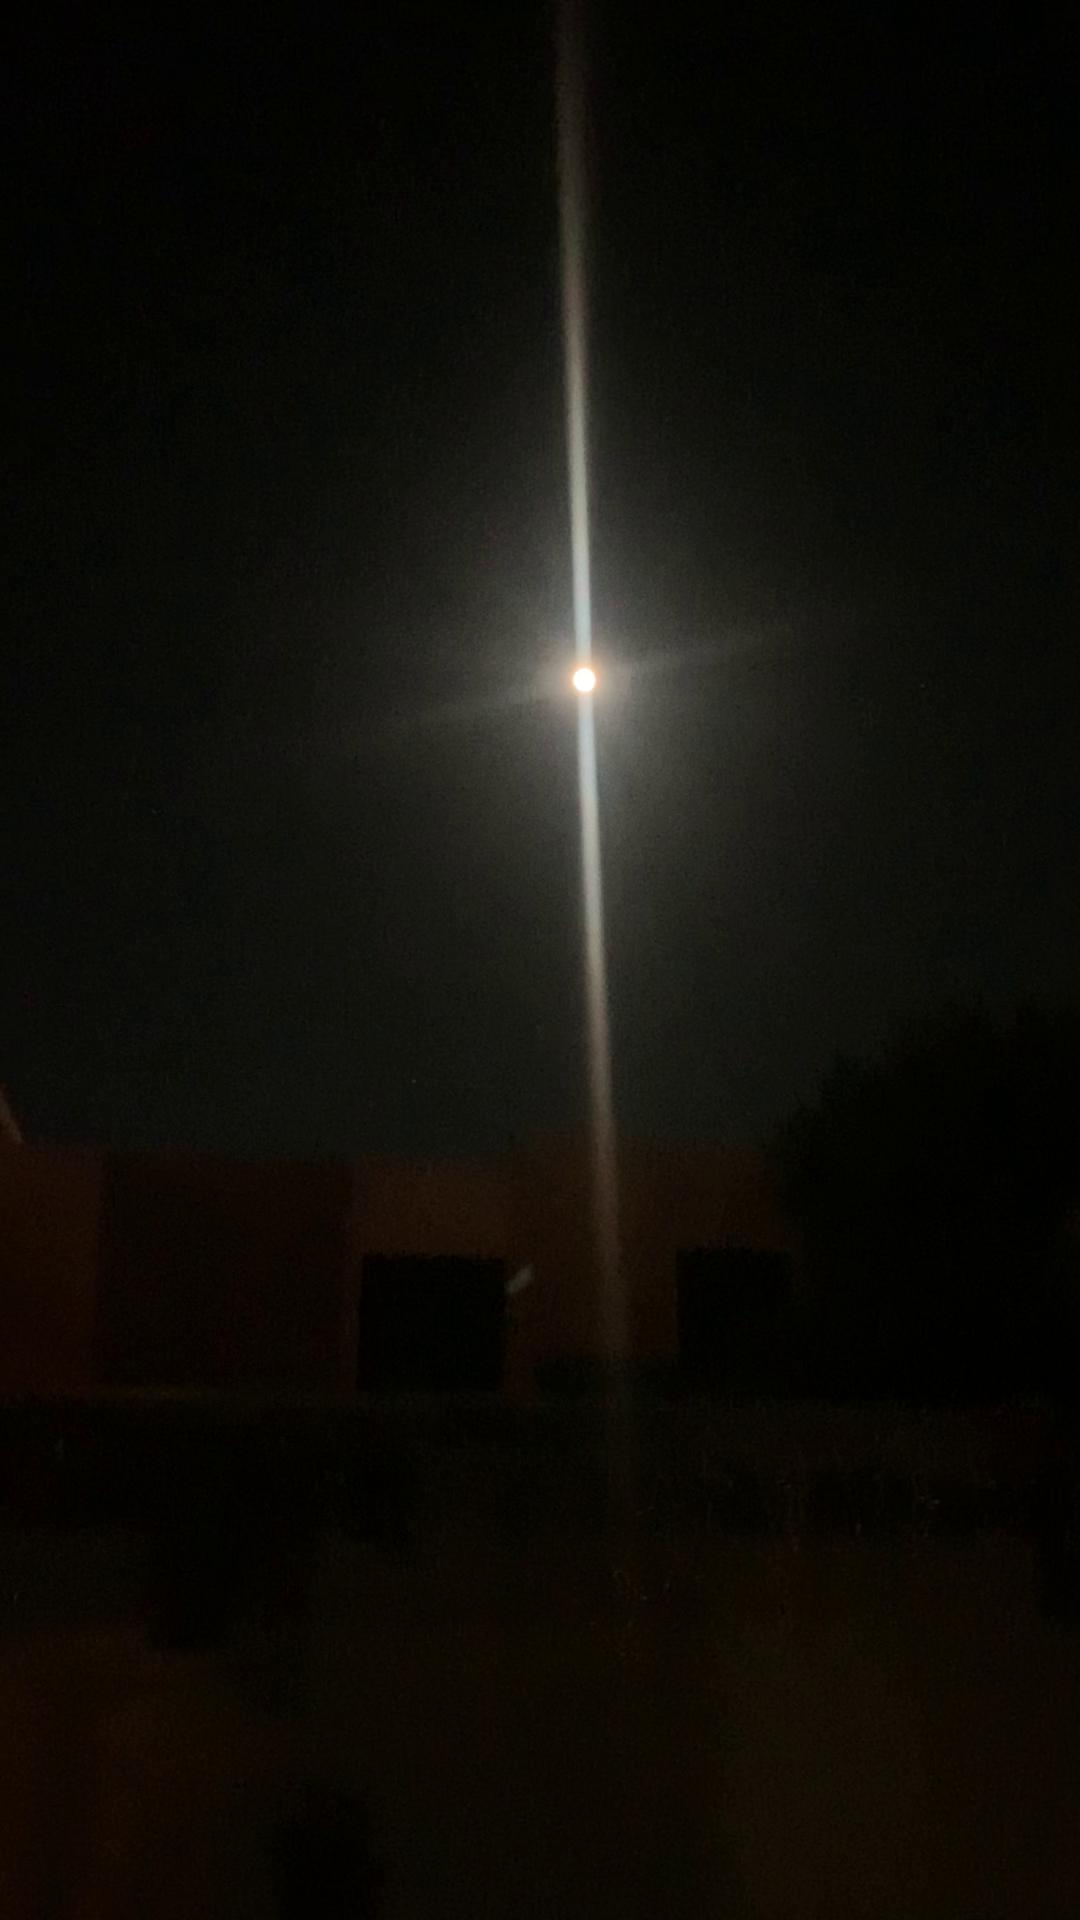moon: (542, 634, 617, 713)
